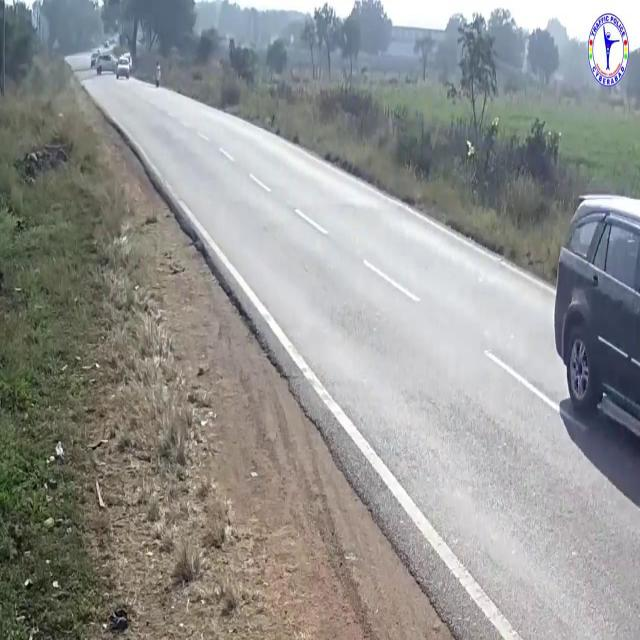accident: (92, 47, 135, 83)
